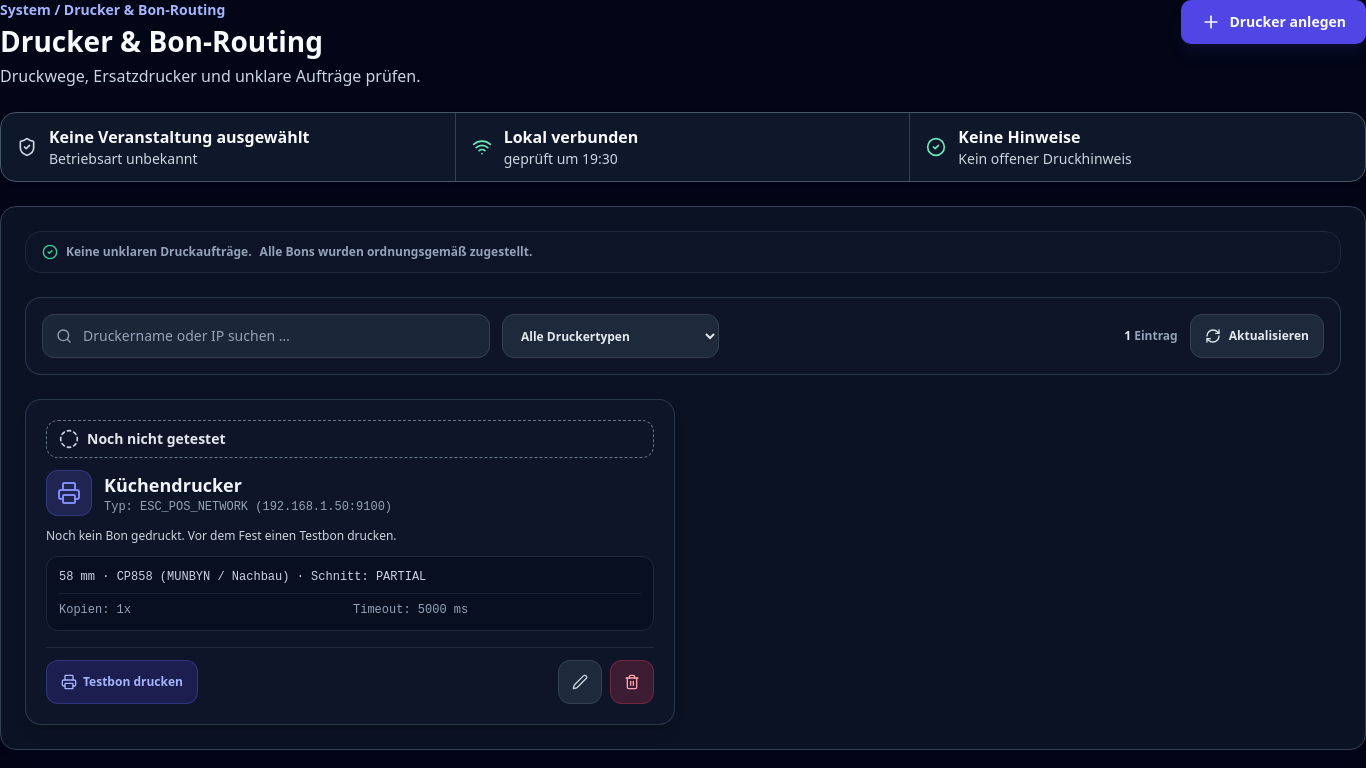
Test: Druckerverwaltung › meldet einen erfolgreichen Testdruck erst nach dem Druck
Expected: the heading "Küchendrucker" is shown, [104,473,242,497]
Click the button "Testbon drucken": click(122, 682) [46,660,198,704]
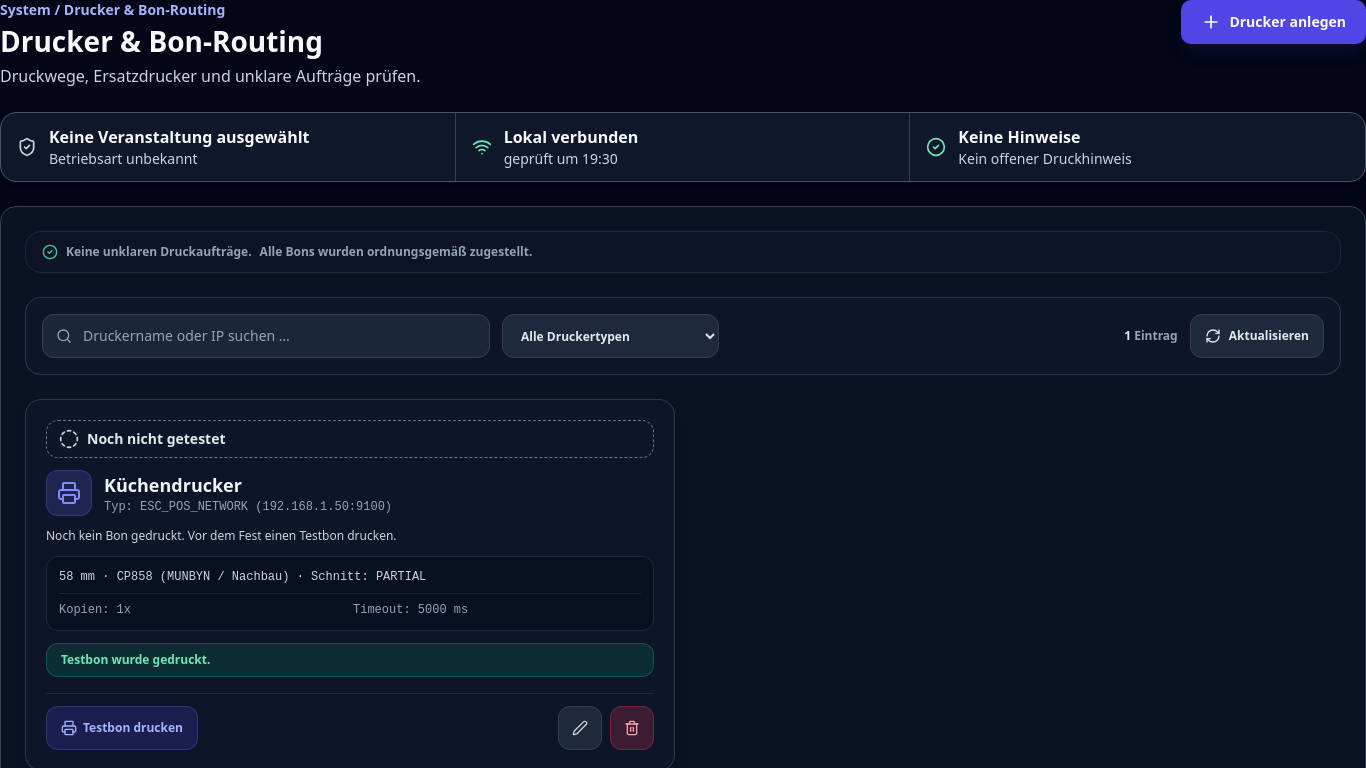
Result: the text "Testbon wurde gedruckt." is shown at [46,643,654,677]
